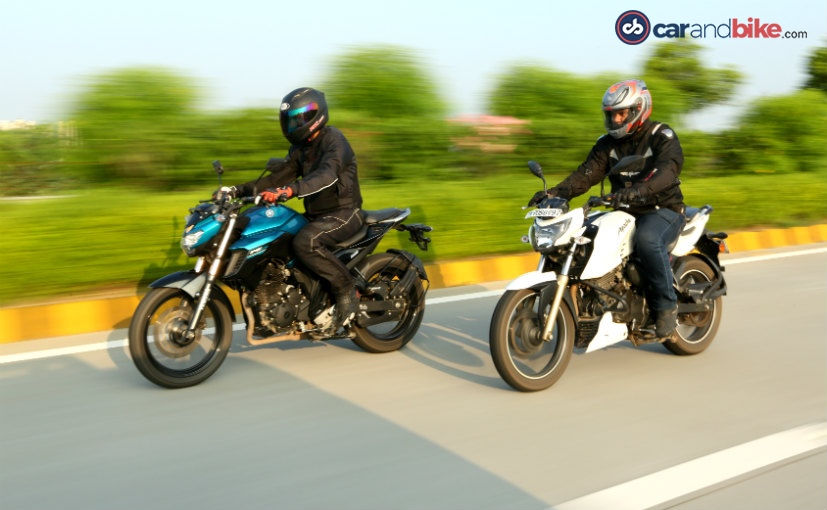helmet: (266, 85, 331, 147), (600, 74, 653, 142)
